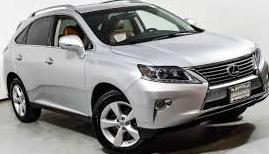SUV: (5, 2, 269, 152)
